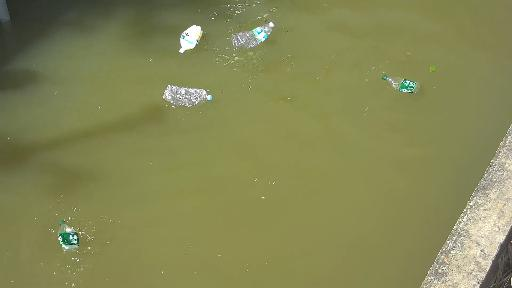leaf: (420, 61, 443, 78)
plastic: (152, 78, 232, 122), (228, 17, 284, 55), (171, 17, 218, 56), (374, 67, 434, 96), (52, 214, 91, 249)
